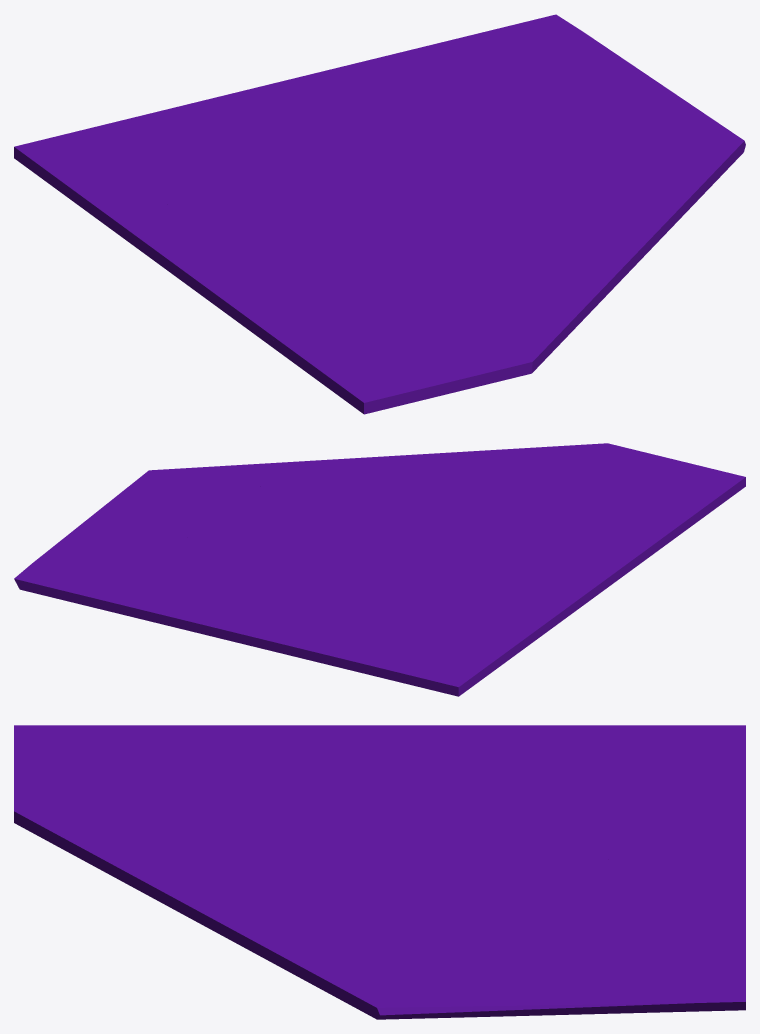
The model's file is Exhibition_18_0_chunks.fbx.
The picture shows the model from 3 angles, top to bottom: view 1: azimuth 30°, elevation 25°; view 2: azimuth 150°, elevation 25°; view 3: azimuth 270°, elevation 25°; orthographic projection. The views are drawn at different scales.
Visible parts, largest first — view 1: Exhibition_18_0_12, Exhibition_18_0_0, Exhibition_18_0_2, Exhibition_18_0_15, Exhibition_18_0_10, Exhibition_18_0_14, Exhibition_18_0_8, Exhibition_18_0_11, Exhibition_18_0_9, Exhibition_18_0_1, Exhibition_18_0_3, Exhibition_18_0_6; view 2: Exhibition_18_0_12, Exhibition_18_0_15, Exhibition_18_0_0, Exhibition_18_0_2, Exhibition_18_0_10, Exhibition_18_0_14, Exhibition_18_0_8, Exhibition_18_0_11, Exhibition_18_0_9, Exhibition_18_0_1, Exhibition_18_0_3, Exhibition_18_0_13 (+1 smaller); view 3: Exhibition_18_0_12, Exhibition_18_0_2, Exhibition_18_0_0, Exhibition_18_0_15, Exhibition_18_0_10, Exhibition_18_0_14, Exhibition_18_0_11, Exhibition_18_0_8, Exhibition_18_0_9, Exhibition_18_0_1, Exhibition_18_0_3.
Part boxes in pixels (bbox=[...]): Exhibition_18_0_12: bbox=[100, 195, 413, 355]; Exhibition_18_0_0: bbox=[297, 285, 590, 414]; Exhibition_18_0_2: bbox=[449, 175, 711, 312]; Exhibition_18_0_15: bbox=[14, 89, 279, 214]; Exhibition_18_0_10: bbox=[249, 57, 556, 179]; Exhibition_18_0_14: bbox=[259, 103, 481, 251]; Exhibition_18_0_8: bbox=[381, 14, 607, 119]; Exhibition_18_0_11: bbox=[552, 48, 745, 170]; Exhibition_18_0_9: bbox=[456, 129, 725, 191]; Exhibition_18_0_1: bbox=[318, 255, 439, 336]; Exhibition_18_0_3: bbox=[411, 221, 487, 295]; Exhibition_18_0_6: bbox=[179, 277, 300, 367]; Exhibition_18_0_12: bbox=[440, 517, 691, 643]; Exhibition_18_0_15: bbox=[266, 594, 530, 690]; Exhibition_18_0_0: bbox=[482, 443, 745, 524]; Exhibition_18_0_2: bbox=[220, 450, 496, 527]; Exhibition_18_0_10: bbox=[157, 531, 333, 650]; Exhibition_18_0_14: bbox=[277, 524, 471, 624]; Exhibition_18_0_8: bbox=[14, 536, 192, 626]; Exhibition_18_0_11: bbox=[50, 467, 205, 549]; Exhibition_18_0_9: bbox=[195, 466, 341, 540]; Exhibition_18_0_1: bbox=[478, 498, 652, 523]; Exhibition_18_0_3: bbox=[406, 488, 534, 525]; Exhibition_18_0_13: bbox=[268, 640, 531, 696]; Exhibition_18_0_12: bbox=[153, 725, 561, 822]; Exhibition_18_0_2: bbox=[113, 834, 403, 988]; Exhibition_18_0_0: bbox=[14, 725, 202, 876]; Exhibition_18_0_15: bbox=[514, 725, 745, 849]; Exhibition_18_0_10: bbox=[444, 845, 745, 944]; Exhibition_18_0_14: bbox=[311, 793, 699, 880]; Exhibition_18_0_11: bbox=[341, 942, 646, 1019]; Exhibition_18_0_8: bbox=[522, 912, 745, 1013]; Exhibition_18_0_9: bbox=[320, 877, 499, 1002]; Exhibition_18_0_1: bbox=[180, 742, 306, 820]; Exhibition_18_0_3: bbox=[202, 810, 358, 852].
Bounding box in the file's own units: 811 × 16.07 × 883.
